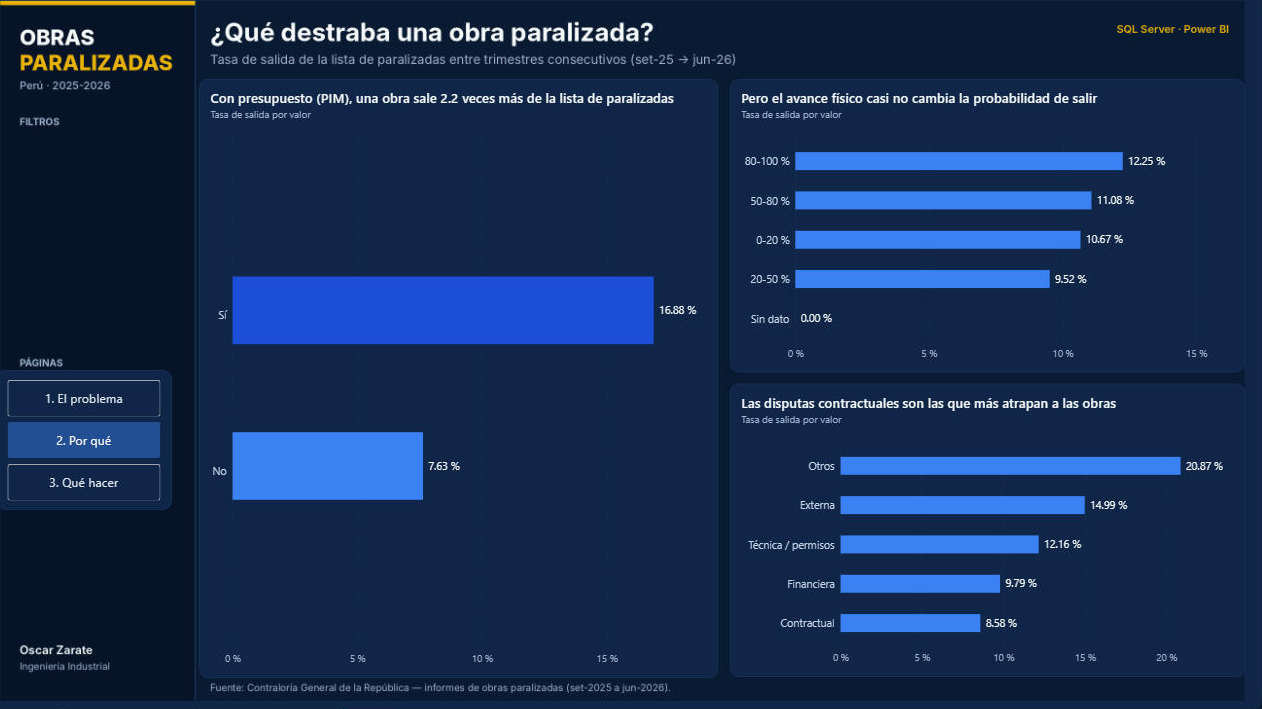

What the dashboard file says about the page in this screenshot:
{"tool":"powerbi","page":{"name":"2. Por qué","canvas":[1920,1080],"ordinal":1},"visuals":[{"type":"image","box":[0,0,1920,1080],"z":0},{"type":"barChart","title":"Con presupuesto (PIM), una obra sale 2.2 veces más de la lista de paralizadas","fields":{"Category":["dw vw_tasa_salida_por_factor.valor"],"Y":["dw fact_obra_corte.Tasa de salida"]},"box":[324,132,780,900],"z":1000},{"type":"barChart","title":"Pero el avance físico casi no cambia la probabilidad de salir","fields":{"Category":["dw vw_tasa_salida_por_factor.valor"],"Y":["dw fact_obra_corte.Tasa de salida"]},"box":[1122,132,774,441],"z":3000},{"type":"barChart","title":"Las disputas contractuales son las que más atrapan a las obras","fields":{"Category":["dw vw_tasa_salida_por_factor.valor"],"Y":["dw fact_obra_corte.Tasa de salida"]},"box":[1122,591,774,441],"z":4000},{"type":"pageNavigator","box":[18,570,264,210],"z":5000}]}

Visuals, with their boxes on the page's 1920x1080 design canvas (x1, y1, x2, y2). These are canvas units, not pixel positions in the 1262x709 screenshot, which may show the page scaled, cropped or inside an application window:
image: l=0, t=0, r=1920, b=1080
"Con presupuesto (PIM), una obra sale 2.2 veces más de la lista de paralizadas" barChart: l=324, t=132, r=1104, b=1032
"Pero el avance físico casi no cambia la probabilidad de salir" barChart: l=1122, t=132, r=1896, b=573
"Las disputas contractuales son las que más atrapan a las obras" barChart: l=1122, t=591, r=1896, b=1032
pageNavigator: l=18, t=570, r=282, b=780
